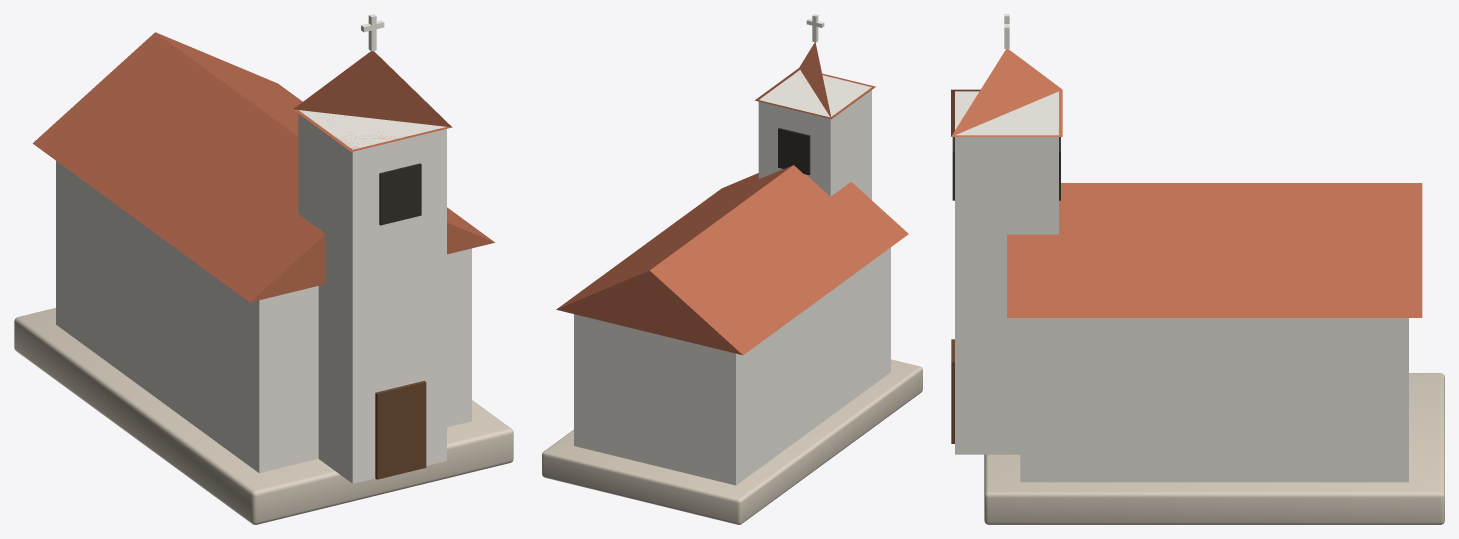
Rendered from capilla.fbx.
The picture shows the model from 3 angles, left to right: view 1: azimuth 30°, elevation 25°; view 2: azimuth 150°, elevation 25°; view 3: azimuth 270°, elevation 25°; orthographic projection. The views are drawn at different scales.
Parts seen in each view (by area): view 1: white, terracotta, white_02, stone, terracotta_02, door, dark; view 2: white, terracotta, stone, white_02, terracotta_02, dark; view 3: white, terracotta, white_02, stone, terracotta_02.
Boxes of the visible parts, left/top/right/bottom form: white: left=56, top=161, right=471, bottom=473; terracotta: left=33, top=32, right=494, bottom=302; white_02: left=298, top=110, right=446, bottom=483; stone: left=14, top=308, right=513, bottom=524; terracotta_02: left=293, top=51, right=452, bottom=151; door: left=375, top=380, right=426, bottom=479; dark: left=379, top=163, right=421, bottom=225; white: left=574, top=247, right=890, bottom=485; terracotta: left=556, top=165, right=908, bottom=355; stone: left=542, top=359, right=922, bottom=524; white_02: left=758, top=70, right=871, bottom=199; terracotta_02: left=755, top=42, right=875, bottom=119; dark: left=778, top=128, right=810, bottom=175; white: left=1020, top=318, right=1408, bottom=482; terracotta: left=1007, top=183, right=1422, bottom=317; white_02: left=955, top=91, right=1058, bottom=454; stone: left=984, top=373, right=1444, bottom=524; terracotta_02: left=951, top=49, right=1062, bottom=136.
Bounding box in the file's own units: 6.4 × 11 × 10.94.
